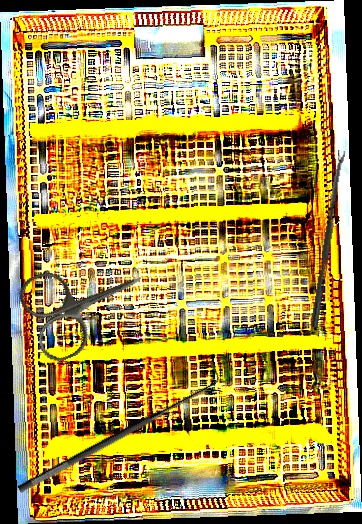Hook Surgical: (8, 361, 227, 496)
Iris Scissors: (13, 237, 160, 368)
Surgical Spoon: (310, 149, 347, 329)
